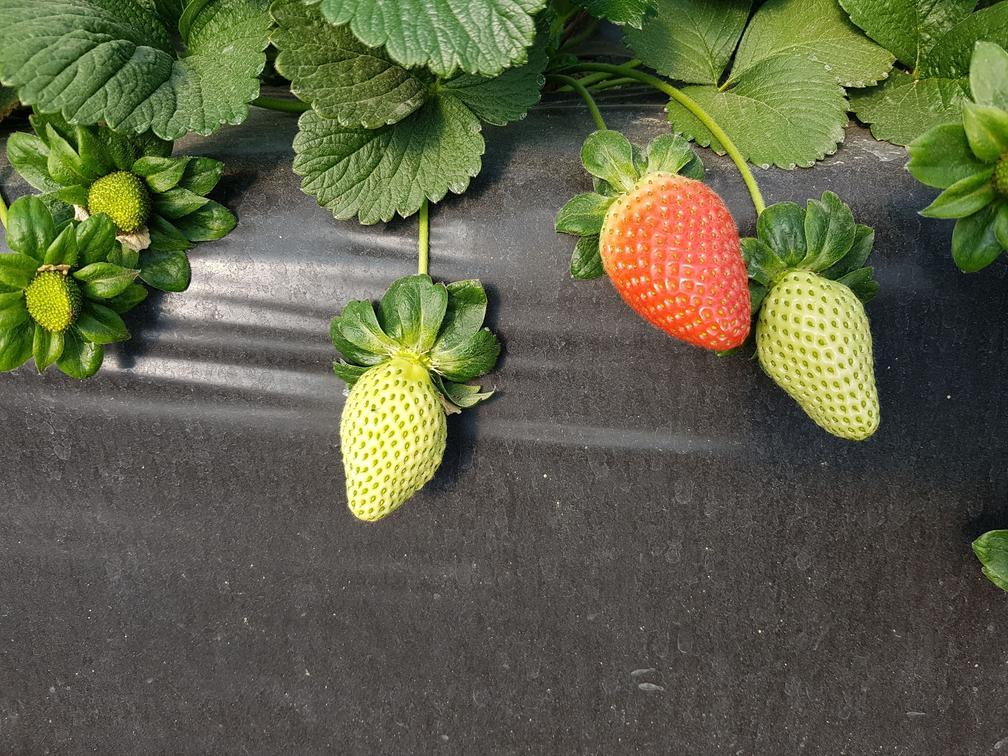Ripe: (597, 171, 755, 351)
Unripe: (756, 271, 892, 441), (340, 360, 454, 520), (90, 168, 153, 239), (30, 271, 86, 330)
